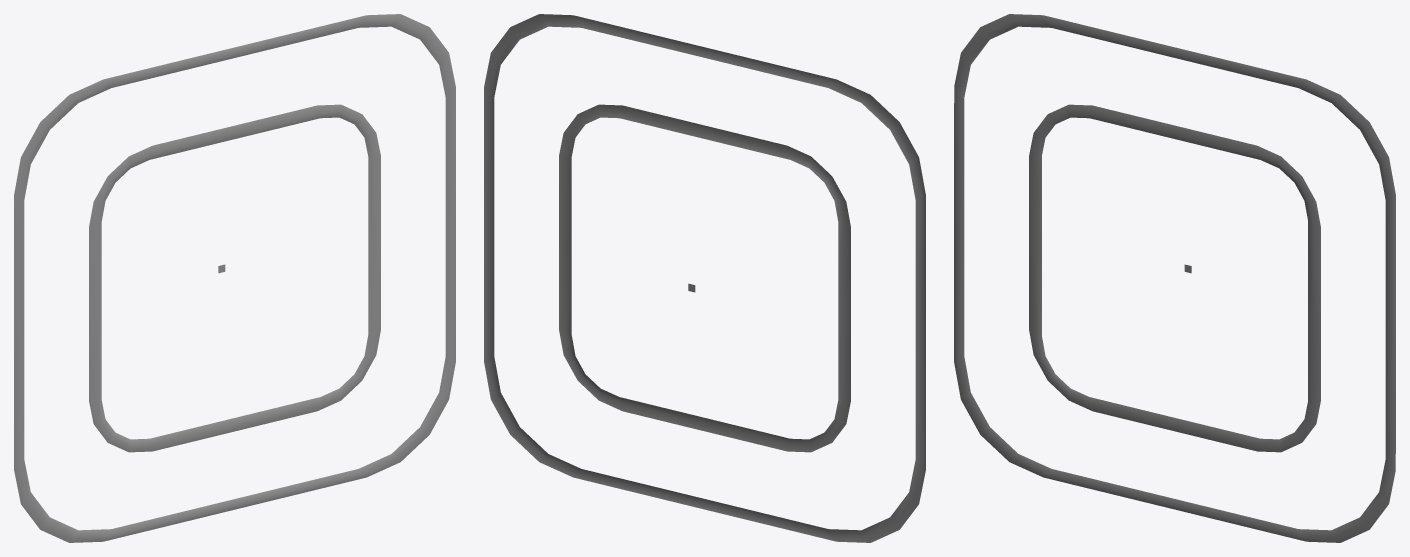
The model's file is MeshPan_1_0_GeomSubset_2.obj.
3 views of the same model, side by side, from view 1: azimuth 30°, elevation 25°; view 2: azimuth 150°, elevation 25°; view 3: azimuth 330°, elevation 25° (orthographic).
Visible parts, largest first — view 1: MeshPan_1_0_GeomSubset_2; view 2: MeshPan_1_0_GeomSubset_2; view 3: MeshPan_1_0_GeomSubset_2.
Part boxes in pixels (box(x1,y1,x2,y2)): MeshPan_1_0_GeomSubset_2: box(14, 14, 455, 542); MeshPan_1_0_GeomSubset_2: box(484, 14, 925, 542); MeshPan_1_0_GeomSubset_2: box(954, 14, 1395, 542).
Size of the model in its own units: 0.1783 by 0.1783 by 0.00968.
